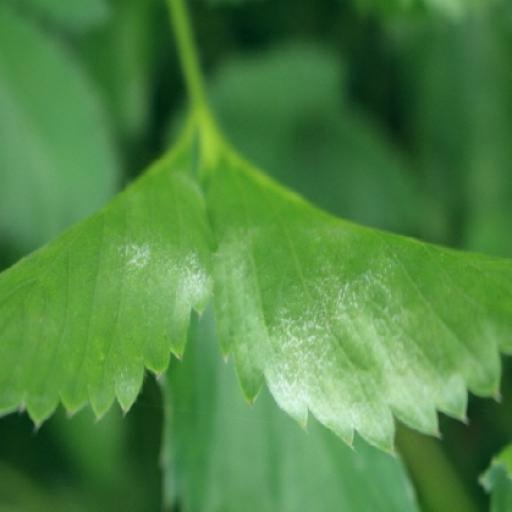Powdery Mildew Leaf: (0, 54, 312, 377), (294, 78, 511, 381)
